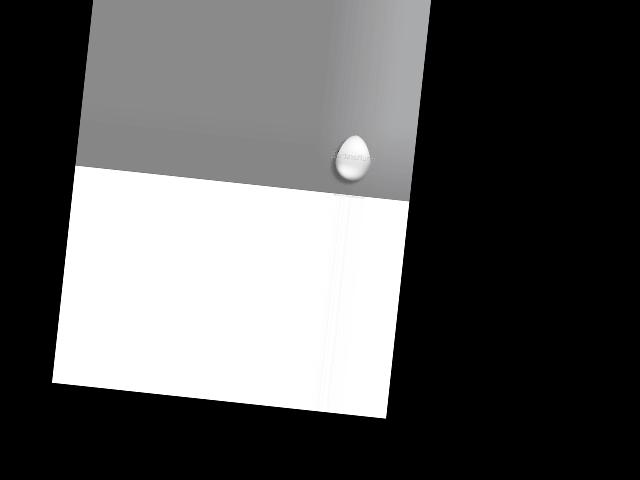egg: (333, 133, 373, 181)
